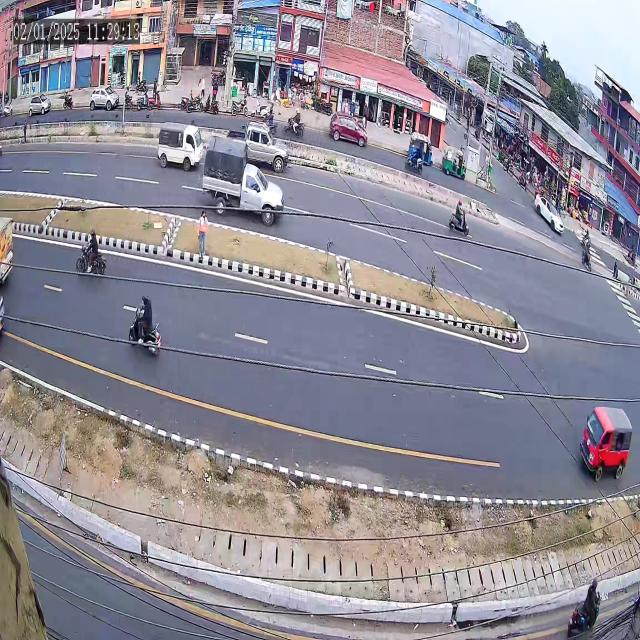motorcycle: (123, 289, 169, 371), (70, 217, 110, 290), (440, 192, 474, 245)
van: (570, 389, 638, 488), (152, 118, 206, 176)
